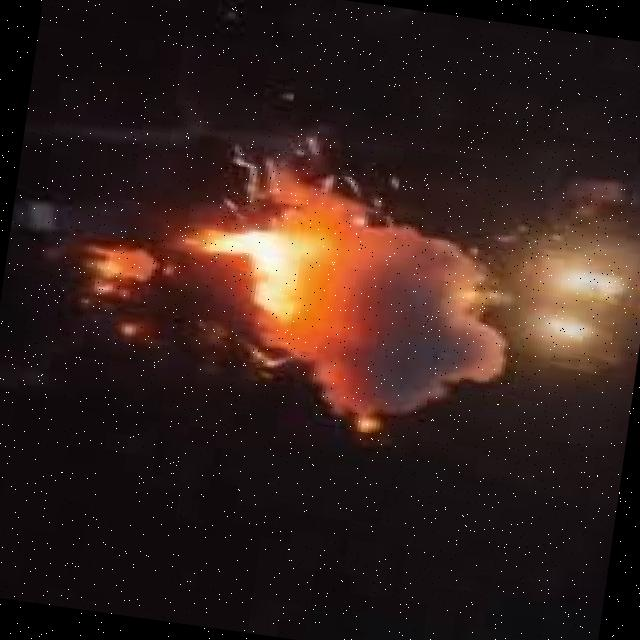explosion: (20, 74, 626, 498)
